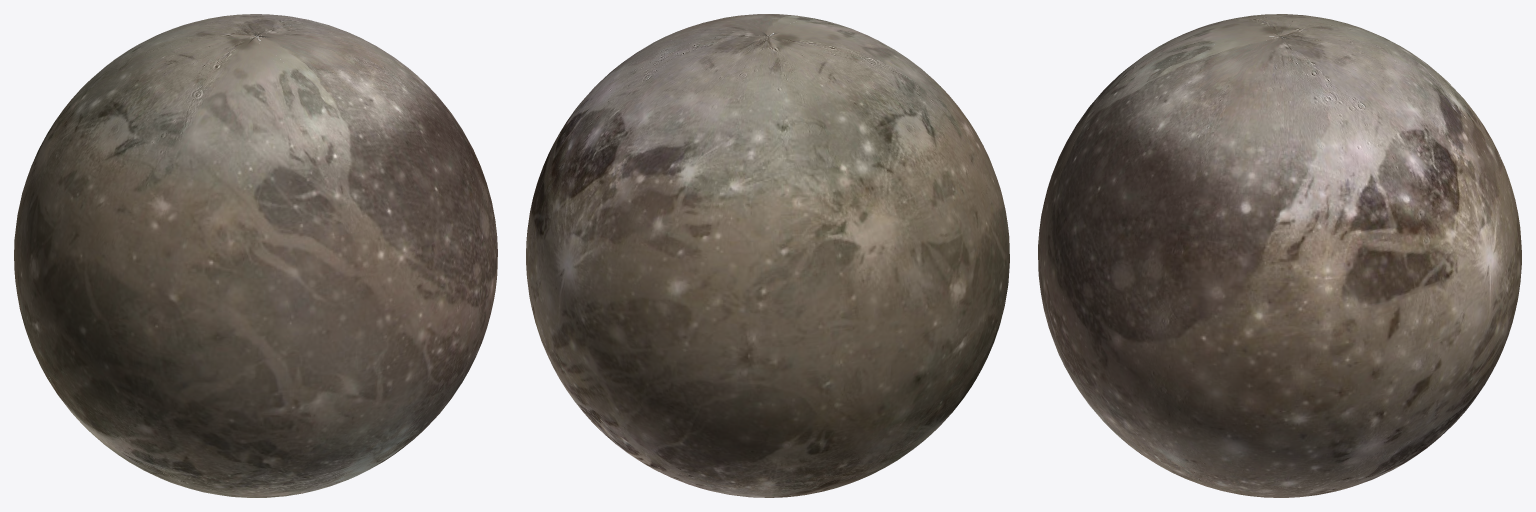
The model's file is Ganymede_1_5268.glb.
3 renders of one model, left to right at view 1: azimuth 30°, elevation 25°; view 2: azimuth 150°, elevation 25°; view 3: azimuth 270°, elevation 25°, orthographic.
Visible parts, largest first — view 1: cylindrically_mapped_sphere; view 2: cylindrically_mapped_sphere; view 3: cylindrically_mapped_sphere.
Part boxes in pixels (x1,y1,x2,y2): cylindrically_mapped_sphere: (14, 14, 497, 497); cylindrically_mapped_sphere: (526, 14, 1009, 497); cylindrically_mapped_sphere: (1038, 14, 1521, 497).
Bounding box in the file's own units: 1000 × 1001 × 1000.
Materials: 1 (1 with a texture image).
